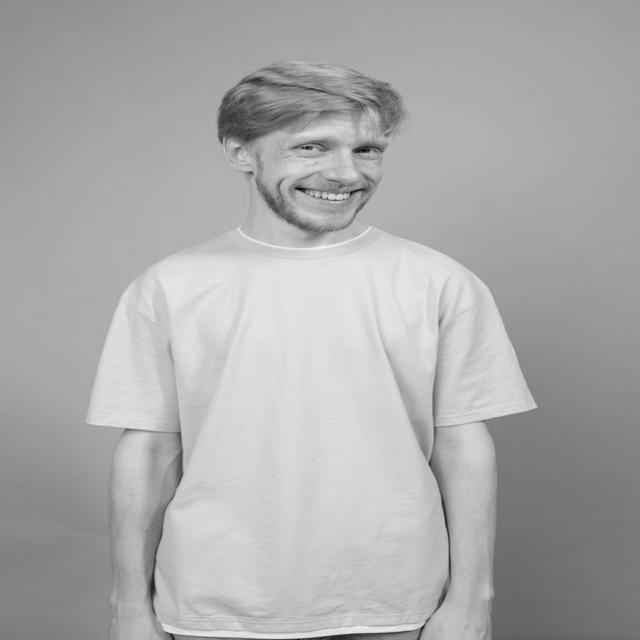Happiness: (268, 110, 386, 230)
